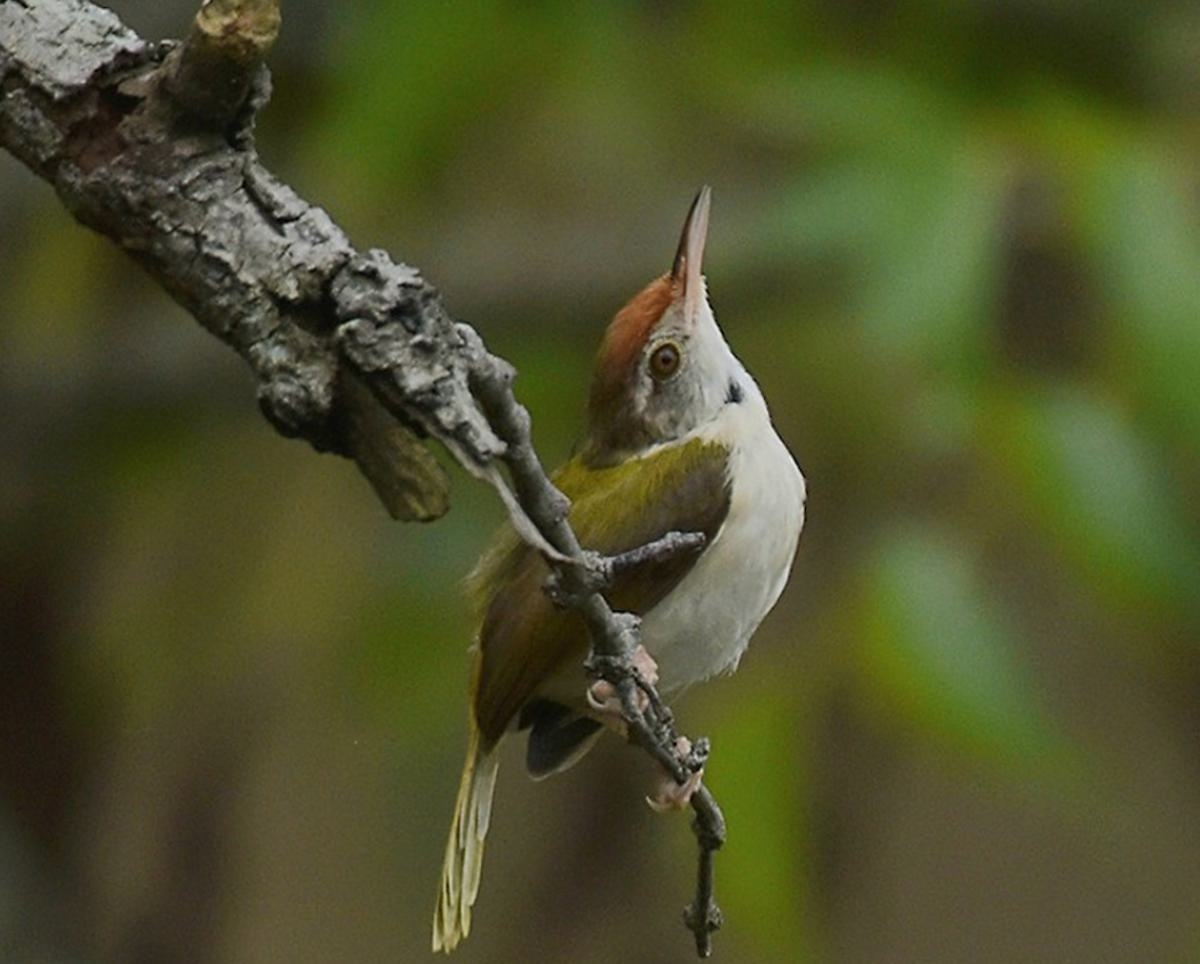tailorbird: (434, 184, 822, 852)
